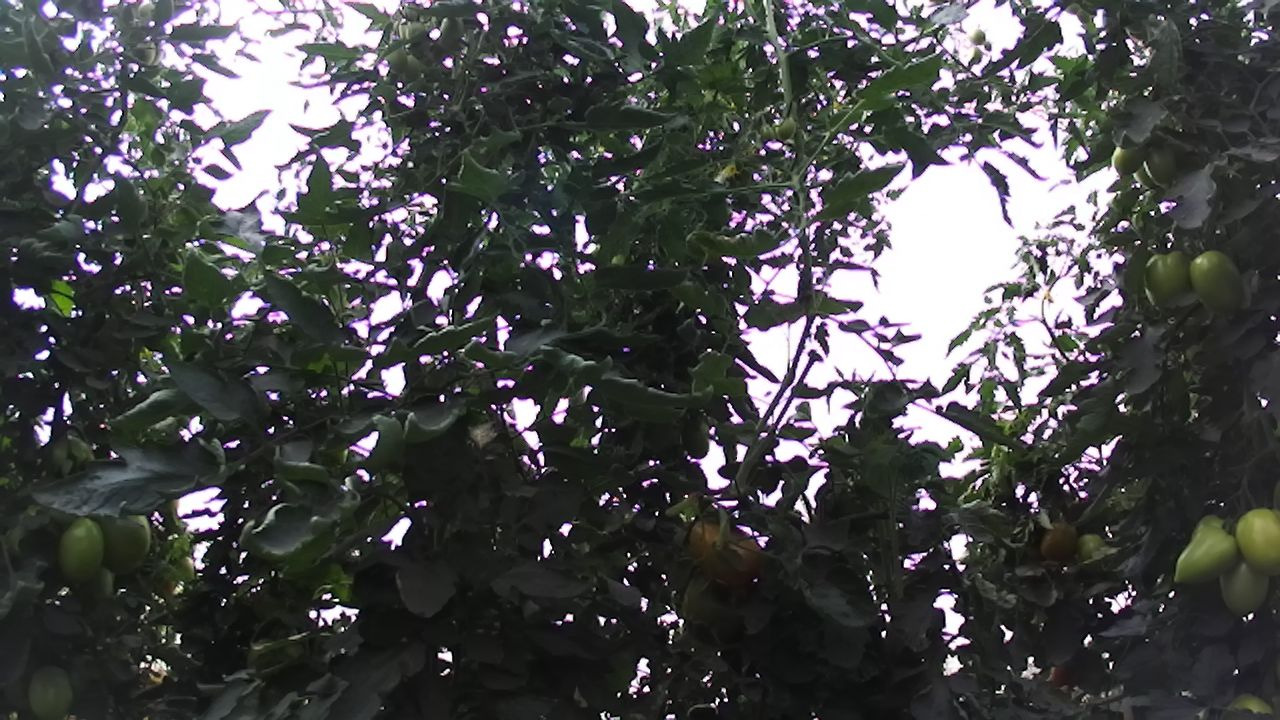tomato: (1168, 520, 1239, 587), (96, 503, 155, 579), (1217, 543, 1273, 620), (1186, 247, 1246, 317), (56, 513, 109, 588), (1140, 247, 1194, 318), (1233, 502, 1280, 583), (25, 661, 76, 720), (1039, 515, 1079, 561)
